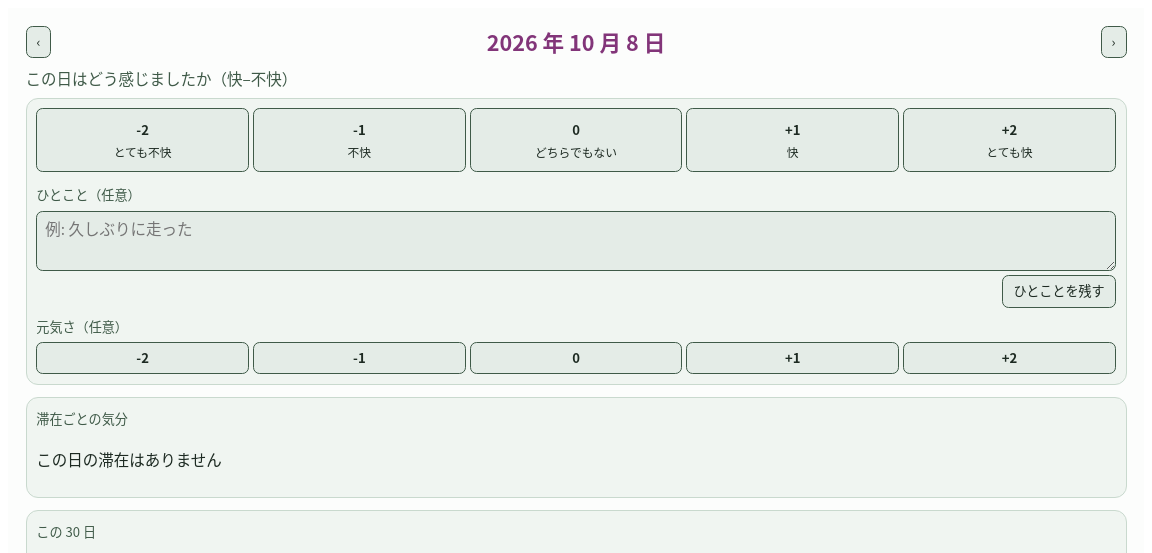
Test case: 送れなかったとき › ひとことを入れて届かなかった後に「もう一度送る」を押しても、欄のフォーカスを奪わず同じ原文が送られる
The width and height of the screenshot is (1152, 553).
Check: the button with test id "valence-1" is shown, box [686,108,899,172]
Type "雨だった" into the text box with test id "feel-note" at (576, 241), box [36,211,1116,271]
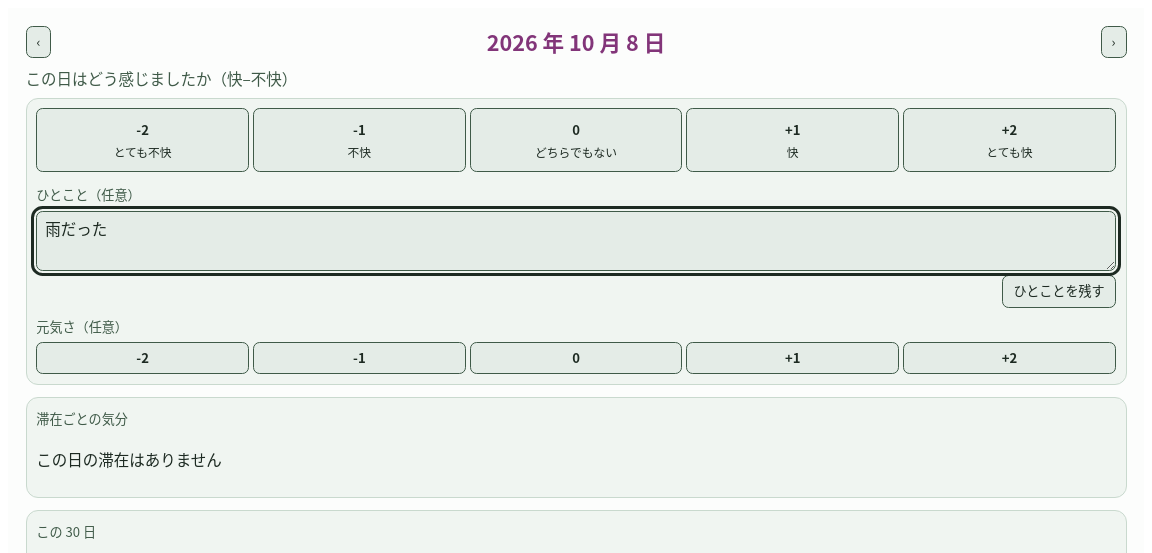
Click the button with test id "valence-1" at (793, 140), box [686,108,899,172]
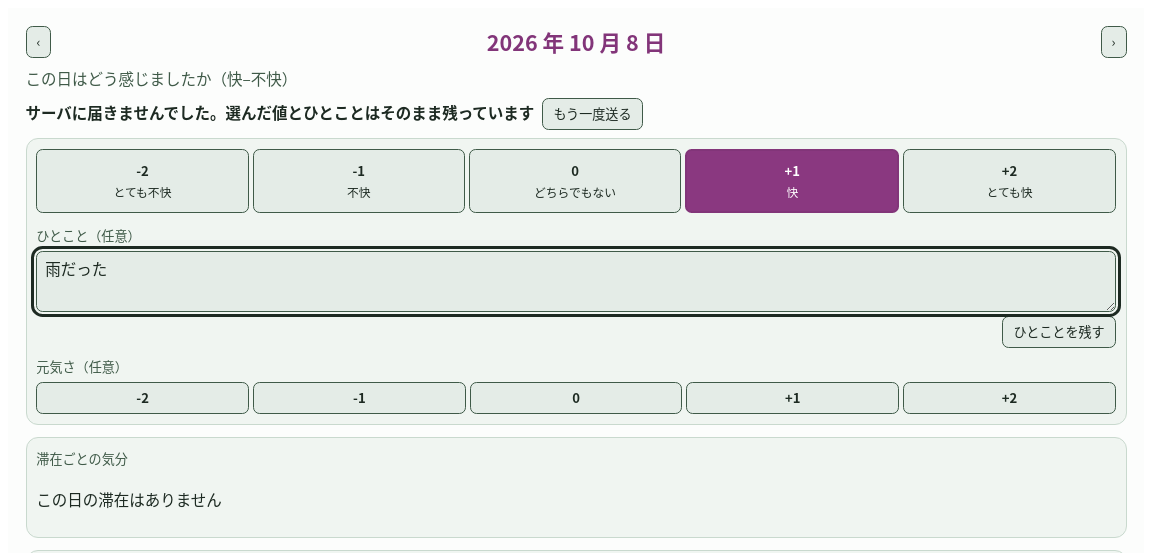
Press the mouse on the button with test id "feel-resend" at (592, 114), box [542,98,643,130]
Click the button with test id "feel-resend" at (592, 114), box [542,98,643,130]
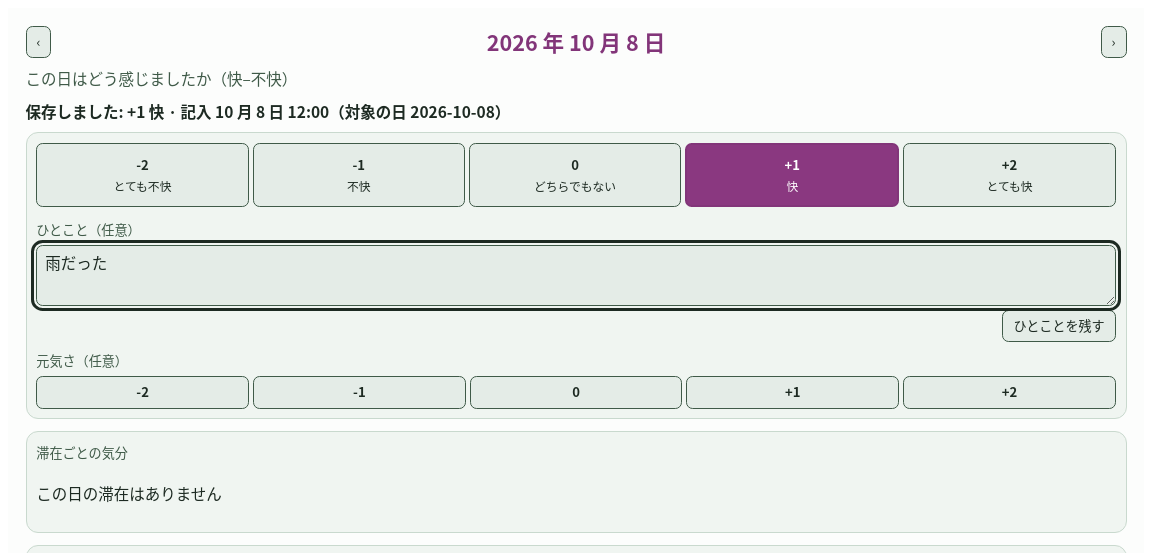
Check: the text "保存しました: +1 快 · 記入 10 月 8 日 12:00（対象の日 2026-10-08）" is shown, box [26,100,510,122]
